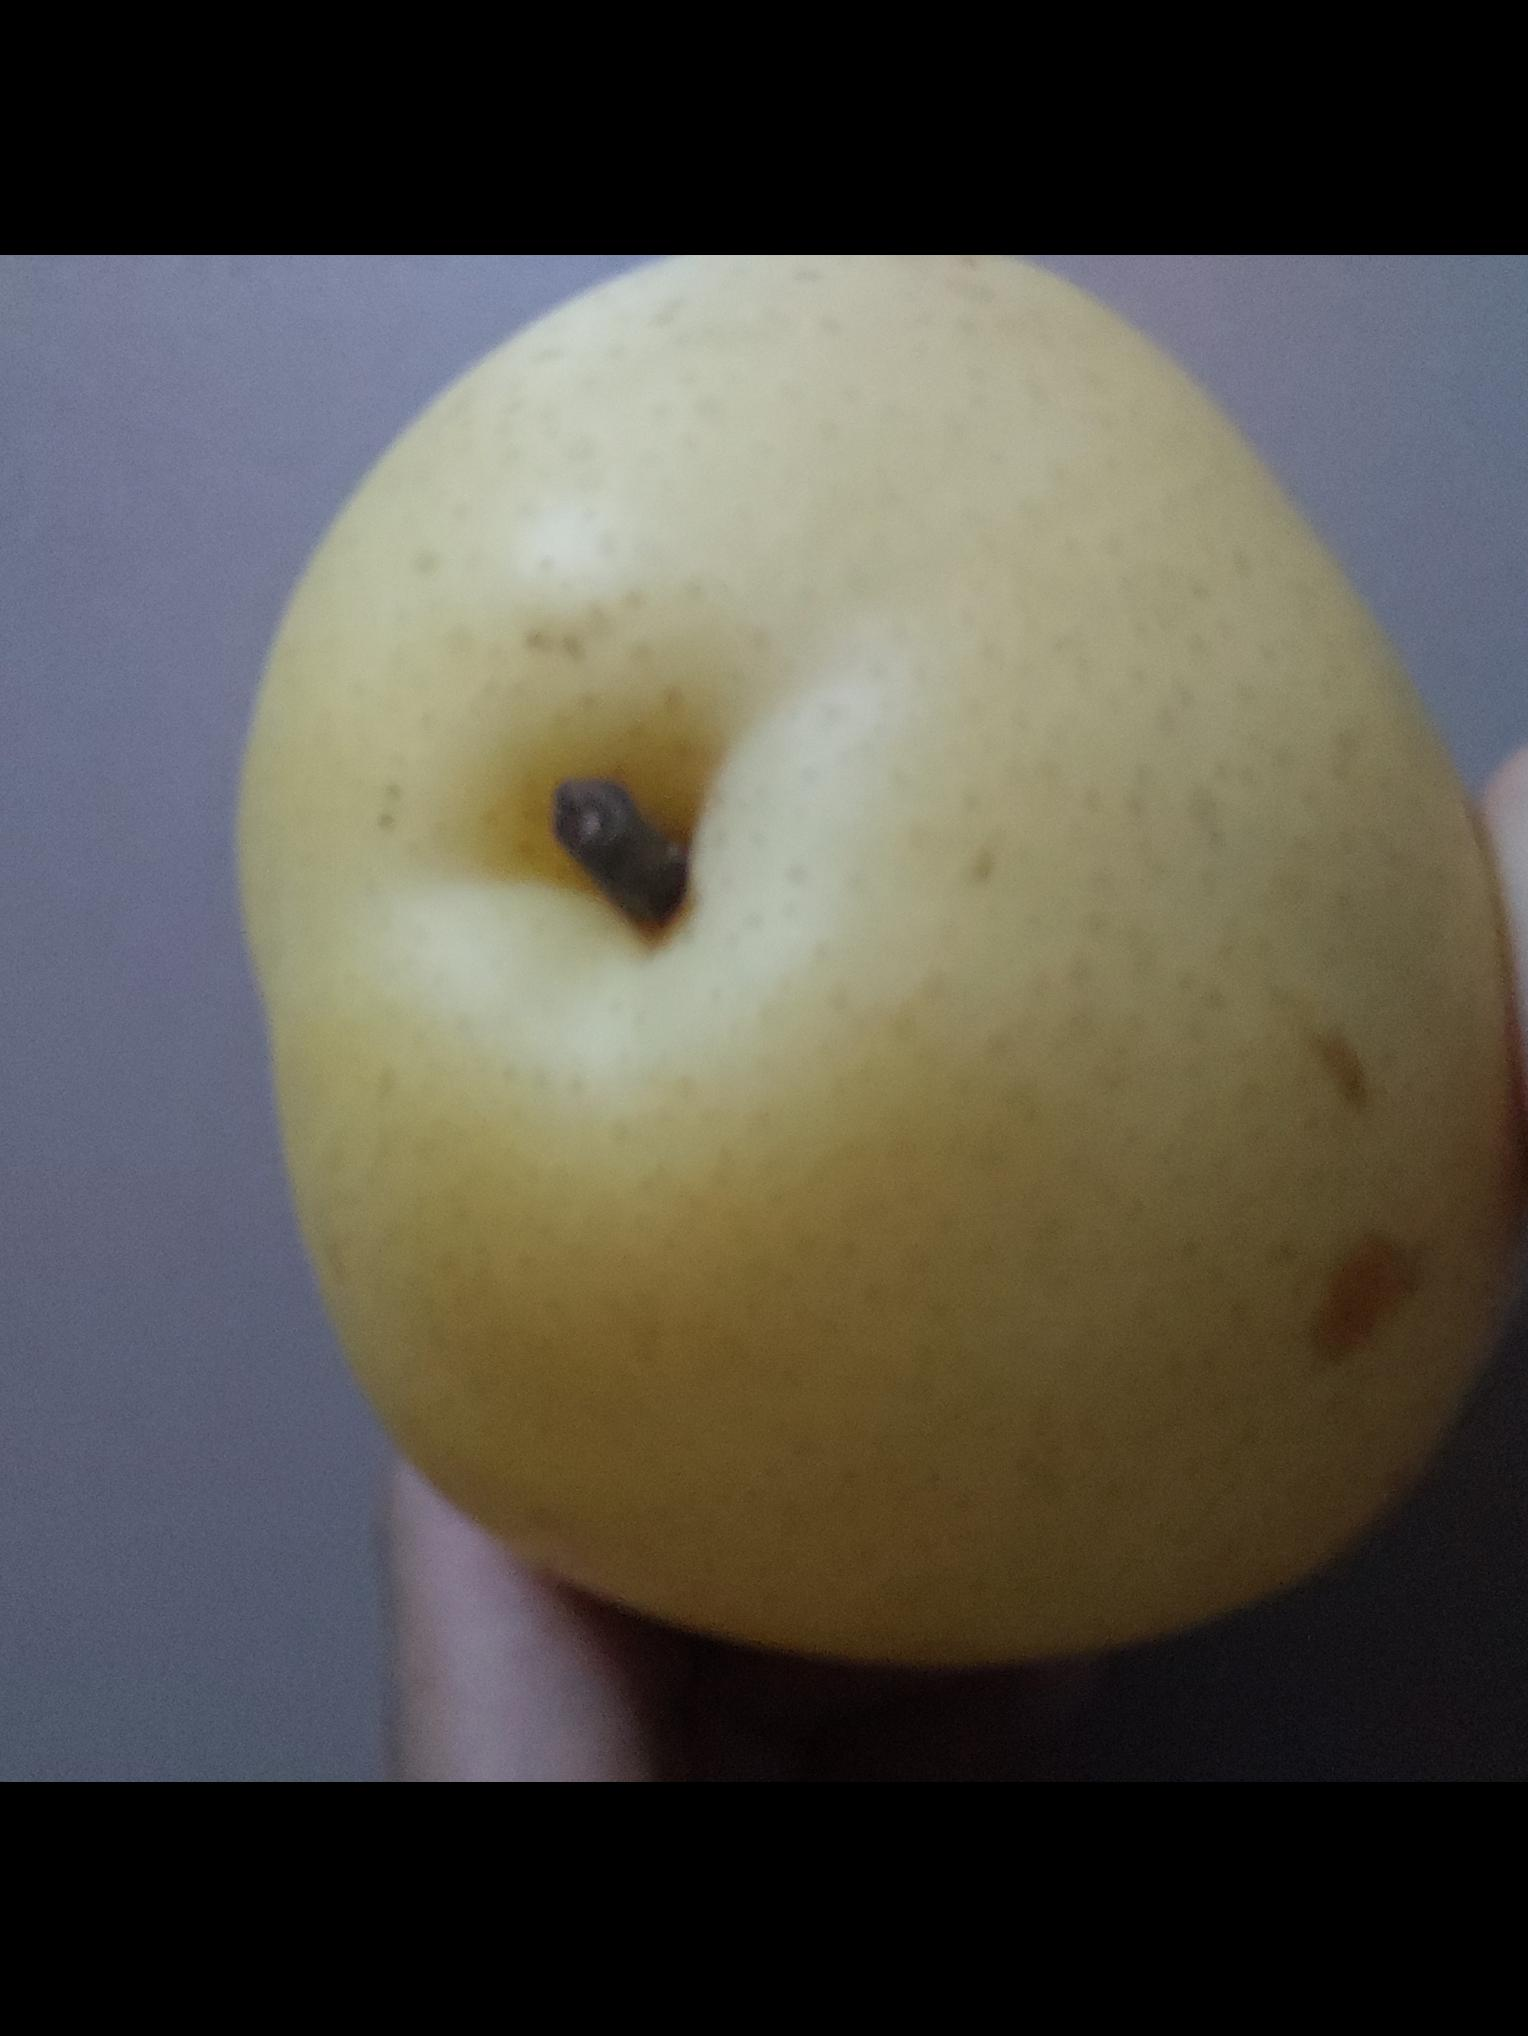Good Pear: (226, 253, 1528, 1701)
